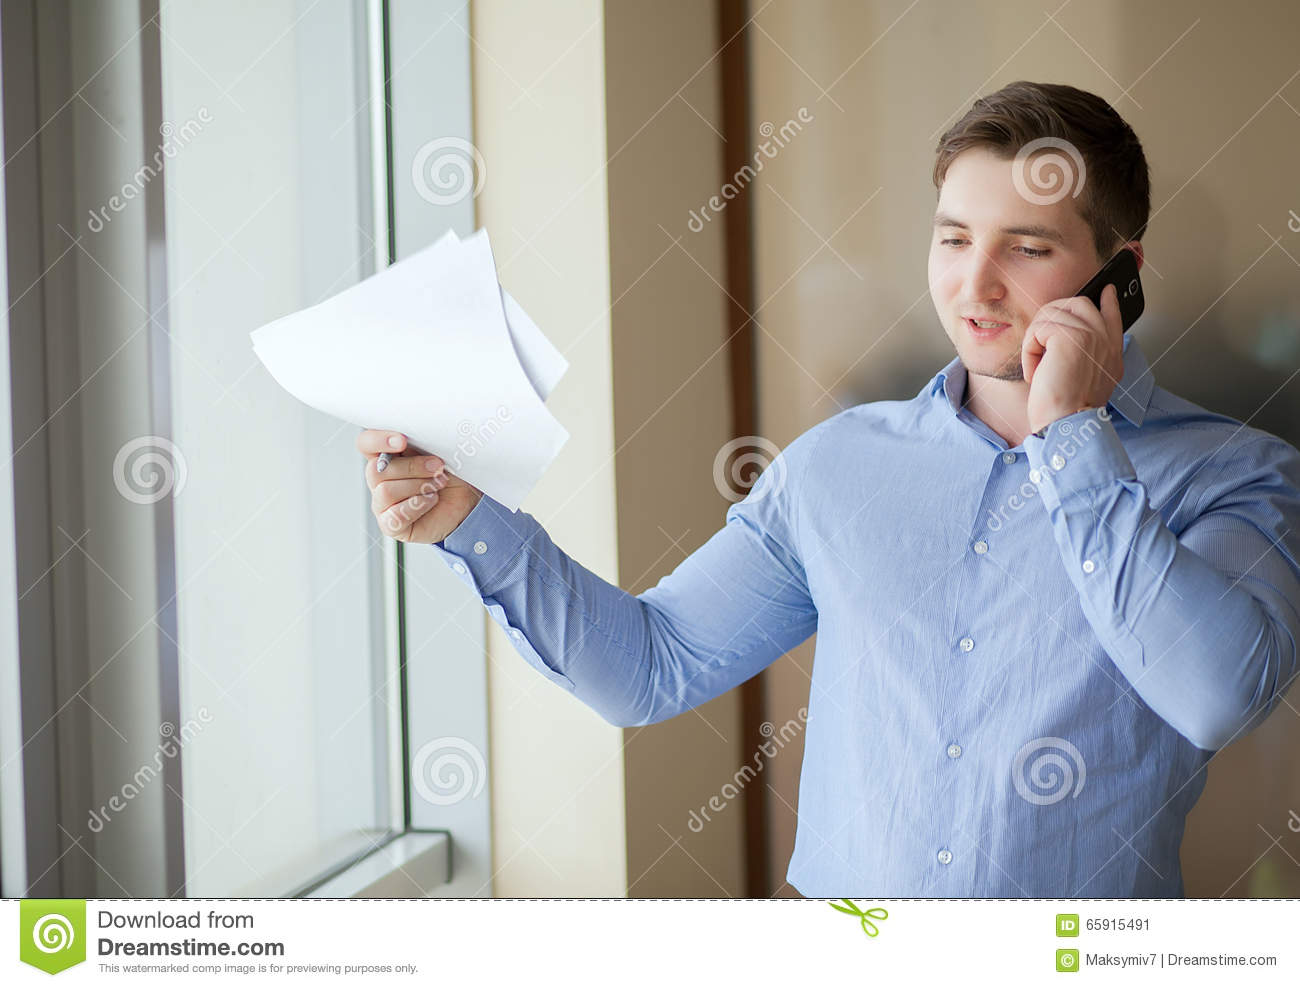phone: (1064, 250, 1147, 340)
talk: (925, 199, 1154, 440)
